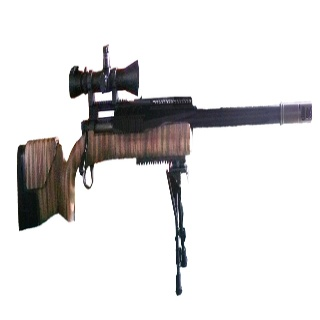rifle: (15, 41, 316, 233)
